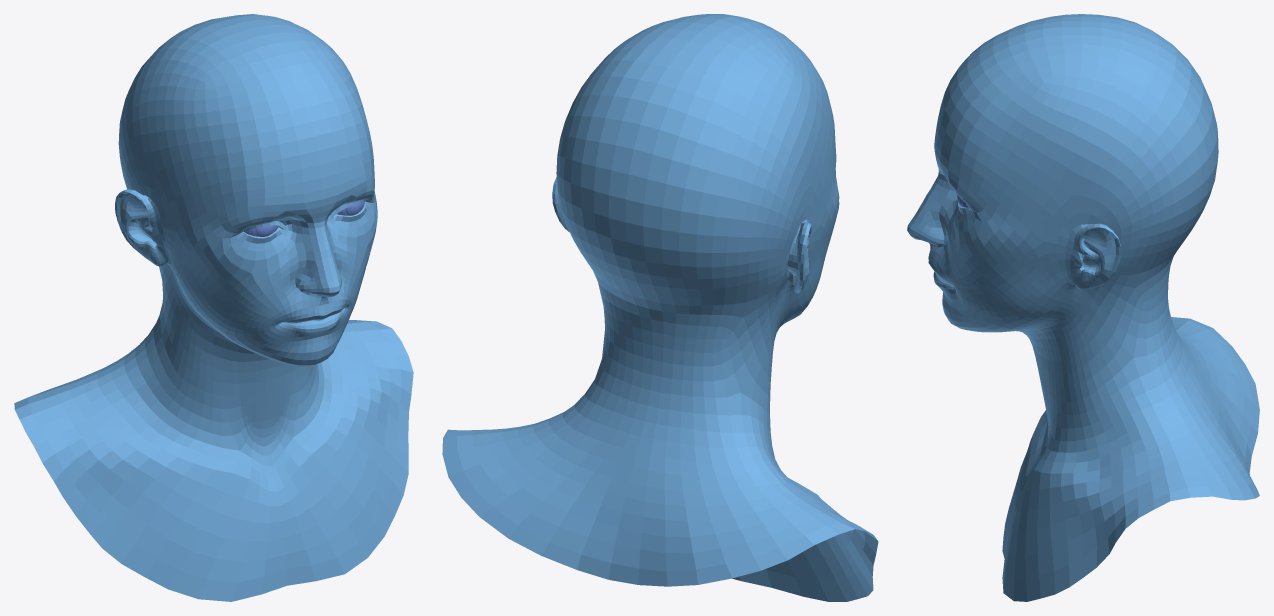
File: head3.gltf
3 renders of one model, left to right at view 1: azimuth 30°, elevation 25°; view 2: azimuth 150°, elevation 25°; view 3: azimuth 270°, elevation 25°, orthographic. The views are drawn at different scales.
Parts seen in each view (by area): view 1: Head_female.001; view 2: Head_female.001; view 3: Head_female.001.
Boxes of the visible parts, bbox=[...] form: Head_female.001: bbox=[14, 14, 413, 601]; Head_female.001: bbox=[442, 14, 878, 601]; Head_female.001: bbox=[907, 14, 1259, 601].
Size of the model in its own units: 0.2836 by 0.3832 by 0.2277.
